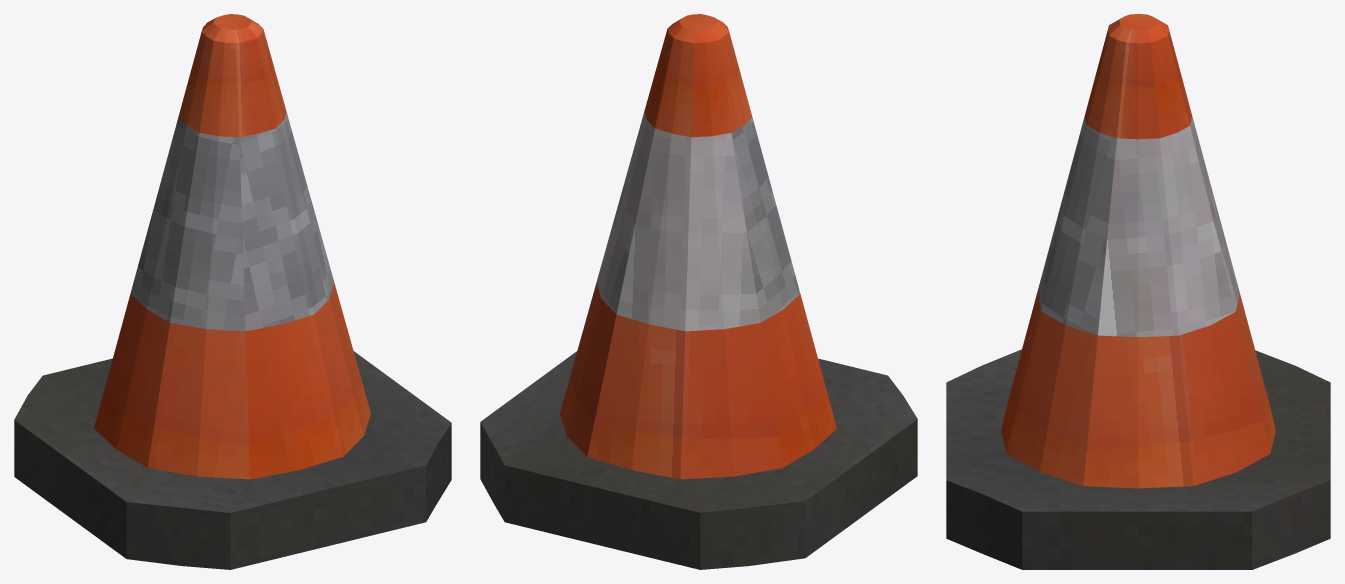
File: TrafficCone.glb
3 renders of one model, left to right at view 1: azimuth 30°, elevation 25°; view 2: azimuth 150°, elevation 25°; view 3: azimuth 270°, elevation 25°, orthographic. The views are drawn at different scales.
Visible parts, largest first — view 1: Cube.001, Cube; view 2: Cube.001, Cube; view 3: Cube.001, Cube.
Boxes of the visible parts, x1,y1,x2,y2 form: Cube.001: [94, 14, 370, 479]; Cube: [14, 351, 451, 569]; Cube.001: [560, 14, 836, 479]; Cube: [480, 351, 917, 569]; Cube.001: [1001, 14, 1275, 488]; Cube: [946, 349, 1330, 569].
Size of the model in its own units: 2.57 by 3.5 by 2.57.
Materials: 3 (3 with a texture image).
